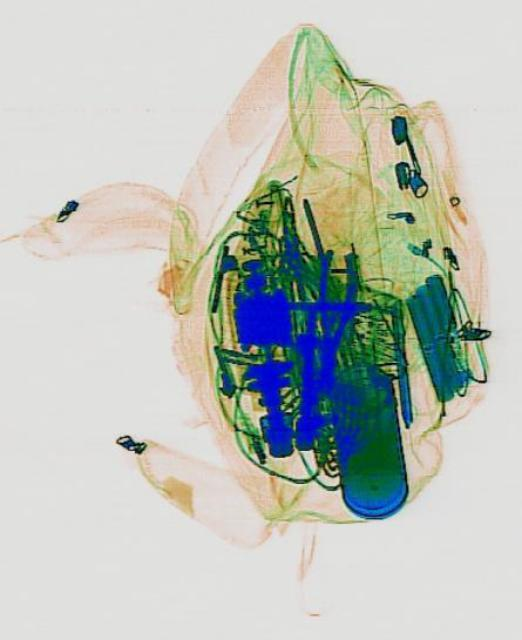Pliers: (301, 245, 358, 391)
